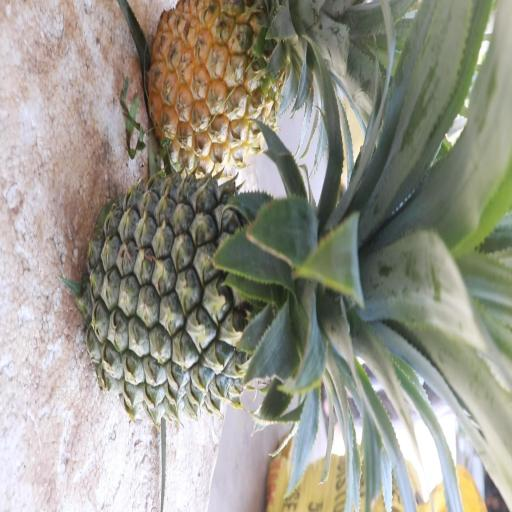Pineapple - v8 v1: (145, 0, 316, 182)
